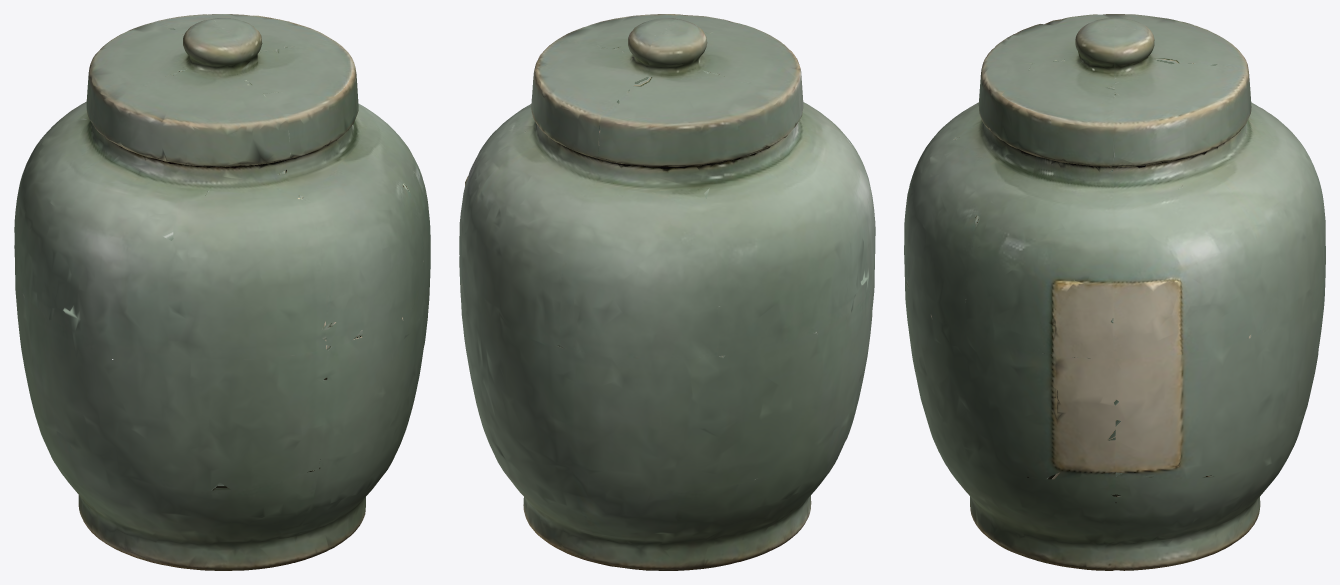
The model's file is jar-desktop.glb.
3 views of the same model, side by side, from view 1: azimuth 30°, elevation 25°; view 2: azimuth 150°, elevation 25°; view 3: azimuth 270°, elevation 25° (orthographic).
Parts seen in each view (by area): view 1: tripo_node_c8fccbc5-1bf1-4c81-ab2a-b4f68db50501; view 2: tripo_node_c8fccbc5-1bf1-4c81-ab2a-b4f68db50501; view 3: tripo_node_c8fccbc5-1bf1-4c81-ab2a-b4f68db50501.
Part boxes in pixels (bbox=[...]): tripo_node_c8fccbc5-1bf1-4c81-ab2a-b4f68db50501: bbox=[14, 14, 430, 570]; tripo_node_c8fccbc5-1bf1-4c81-ab2a-b4f68db50501: bbox=[459, 14, 875, 570]; tripo_node_c8fccbc5-1bf1-4c81-ab2a-b4f68db50501: bbox=[904, 14, 1325, 570].
Bounding box in the file's own units: 0.7732 × 0.9992 × 0.7872.
1 material, 1 textured.
